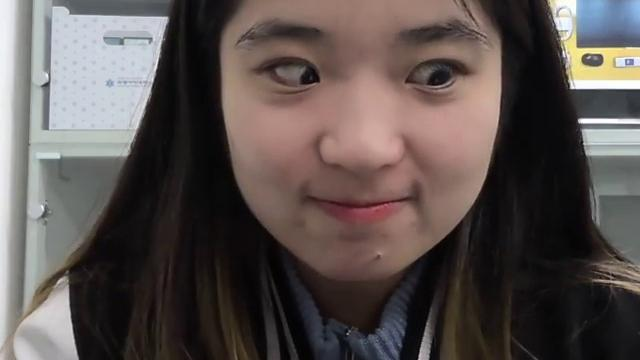eye: (431, 71, 449, 85), (302, 68, 317, 82)
iris: (267, 62, 318, 86), (409, 63, 458, 85)
